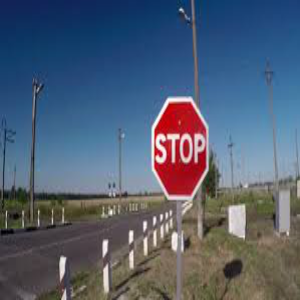STOP_SIGN: (150, 96, 209, 200)
